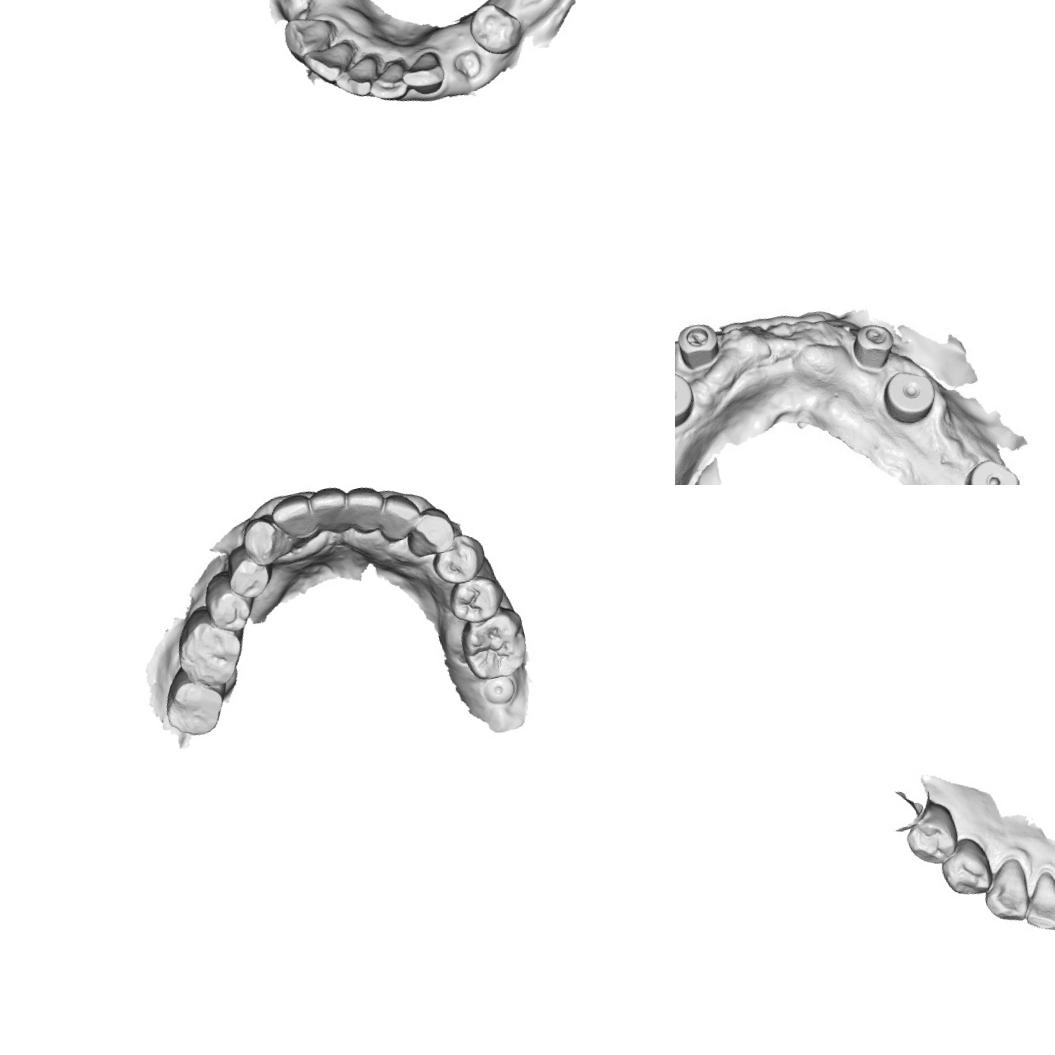canine: (975, 854, 1036, 929), (399, 501, 460, 560), (236, 511, 296, 570), (279, 9, 342, 60)
implant: (836, 304, 909, 382), (880, 357, 948, 434), (675, 309, 738, 378), (955, 449, 1028, 485), (675, 361, 708, 440), (478, 672, 520, 708)
incisor: (371, 488, 427, 548), (268, 490, 322, 548), (300, 39, 360, 87), (1015, 867, 1055, 939), (397, 48, 448, 100), (331, 53, 385, 102), (341, 485, 391, 537), (307, 485, 354, 538), (364, 58, 413, 106)
molar: (168, 598, 254, 698), (454, 604, 534, 684), (156, 659, 230, 742)
premolar: (898, 796, 965, 871), (934, 832, 998, 904), (197, 564, 256, 634), (426, 528, 491, 590), (442, 570, 510, 629), (464, 0, 527, 61), (220, 538, 276, 603)
